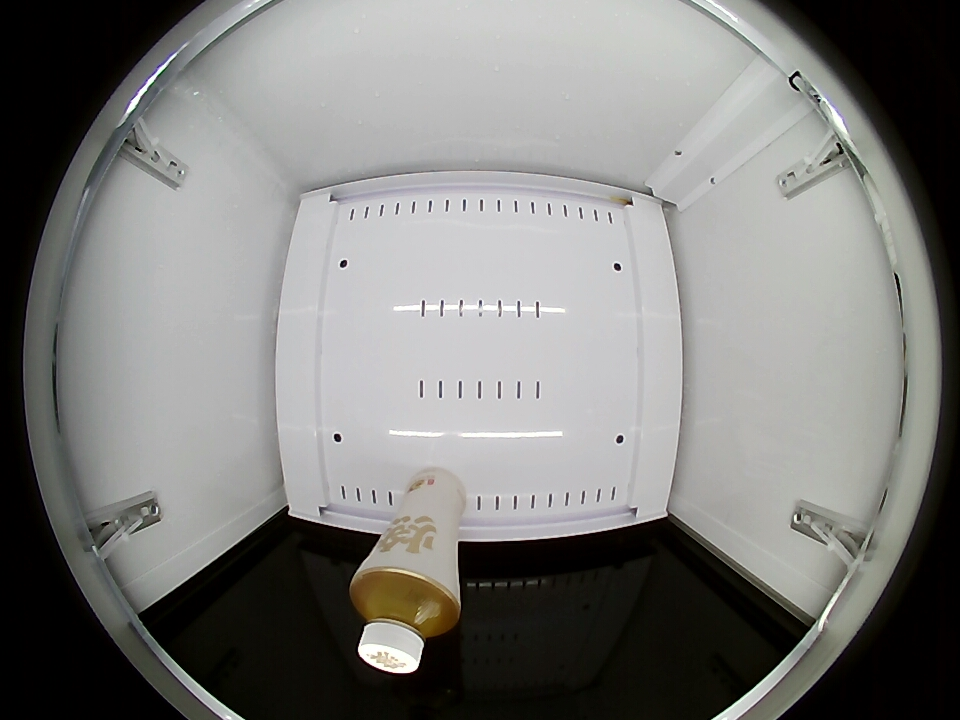rancha-2: (351, 559, 462, 675)
